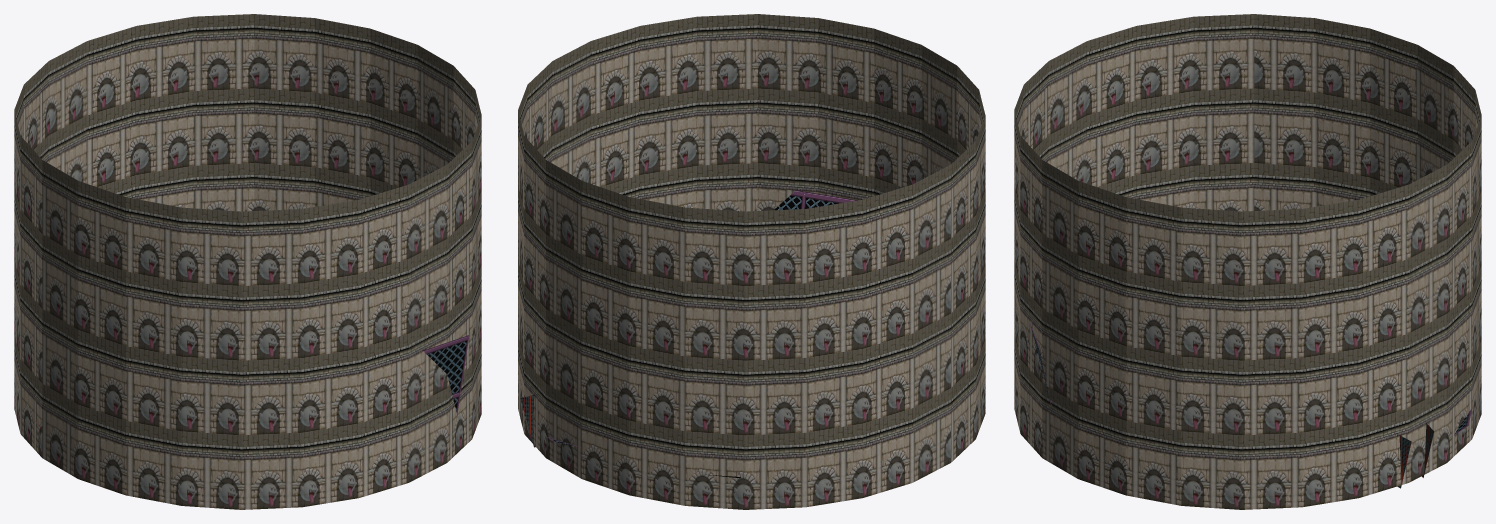
The picture shows the model from 3 angles, left to right: view 1: azimuth 30°, elevation 25°; view 2: azimuth 150°, elevation 25°; view 3: azimuth 270°, elevation 25°; orthographic projection.
Visible parts, largest first — view 1: WCCv2_0-SKP--wa_colosseumALL13, WCCv2_0-SKP--wa_fence128; view 2: WCCv2_0-SKP--wa_colosseumALL13, WCCv2_0-SKP--wa_fence128; view 3: WCCv2_0-SKP--wa_colosseumALL13, WCCv2_0-SKP--wa_NEWroad1.
Boxes of the visible parts, bbox=[...] form: WCCv2_0-SKP--wa_colosseumALL13: bbox=[14, 14, 481, 509]; WCCv2_0-SKP--wa_fence128: bbox=[423, 335, 469, 414]; WCCv2_0-SKP--wa_colosseumALL13: bbox=[518, 14, 985, 509]; WCCv2_0-SKP--wa_fence128: bbox=[547, 190, 857, 447]; WCCv2_0-SKP--wa_colosseumALL13: bbox=[1014, 14, 1481, 509]; WCCv2_0-SKP--wa_NEWroad1: bbox=[1397, 423, 1433, 488].
Bounding box in the file's own units: 82978 × 59321 × 82903.
Materials: 24 (24 with a texture image).
